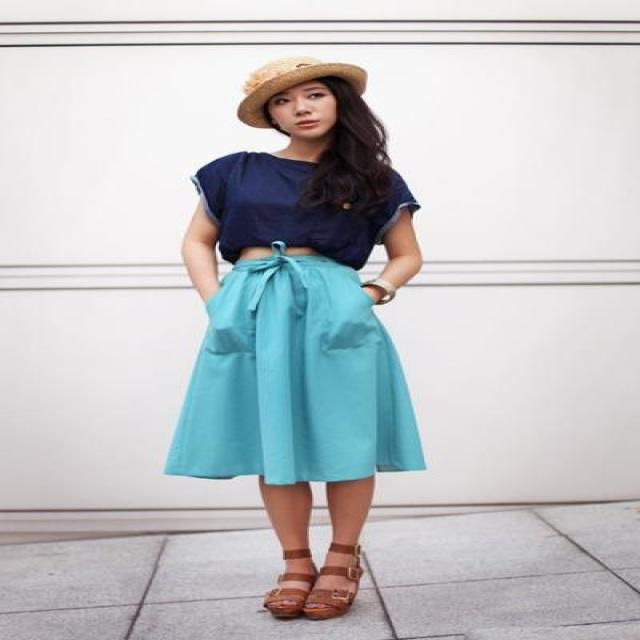hat: (237, 43, 363, 134)
shirt: (192, 151, 419, 268)
shoe: (258, 543, 378, 621)
skirt: (165, 243, 424, 483)
